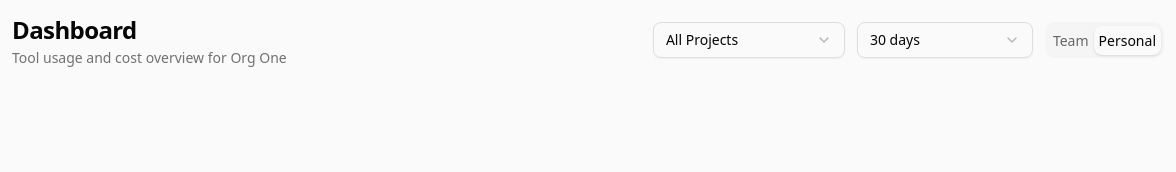
it: OrgDashboard — filter chrome parity Team ↔ Personal (AIX-607) › labels the Personal project dropdown All Projects with matching control order
Expected: the dropdown labelled "30 days" is shown, [857,22,1033,58]
Click the dropdown labelled "All Projects" at x=749, y=40, box [653,22,845,58]
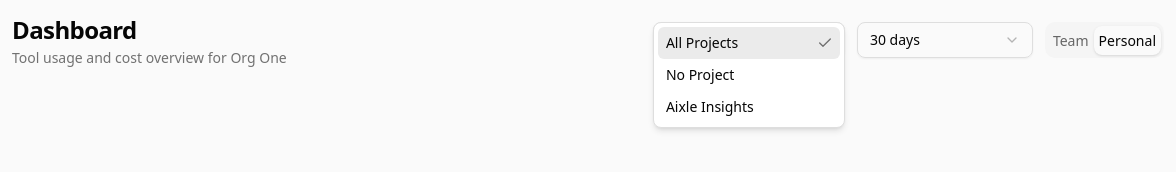
Result: the option "All Projects" is shown at [658,27,840,59]
Result: the option "No Project" is shown at [666,65,734,84]
Result: the option "Aixle Insights" is shown at [666,97,754,116]
